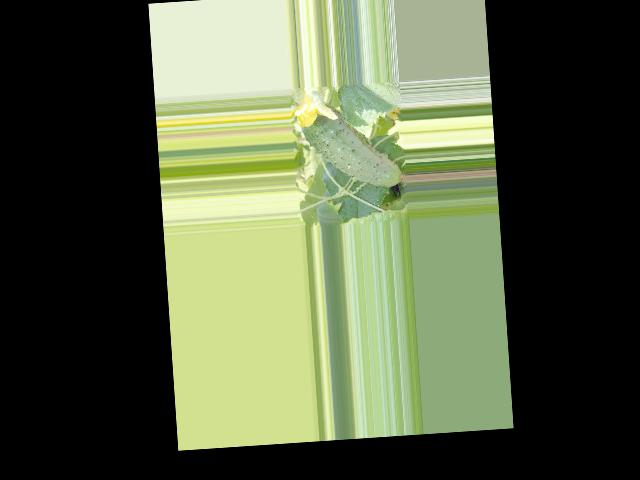cucumber: (300, 99, 407, 193)
